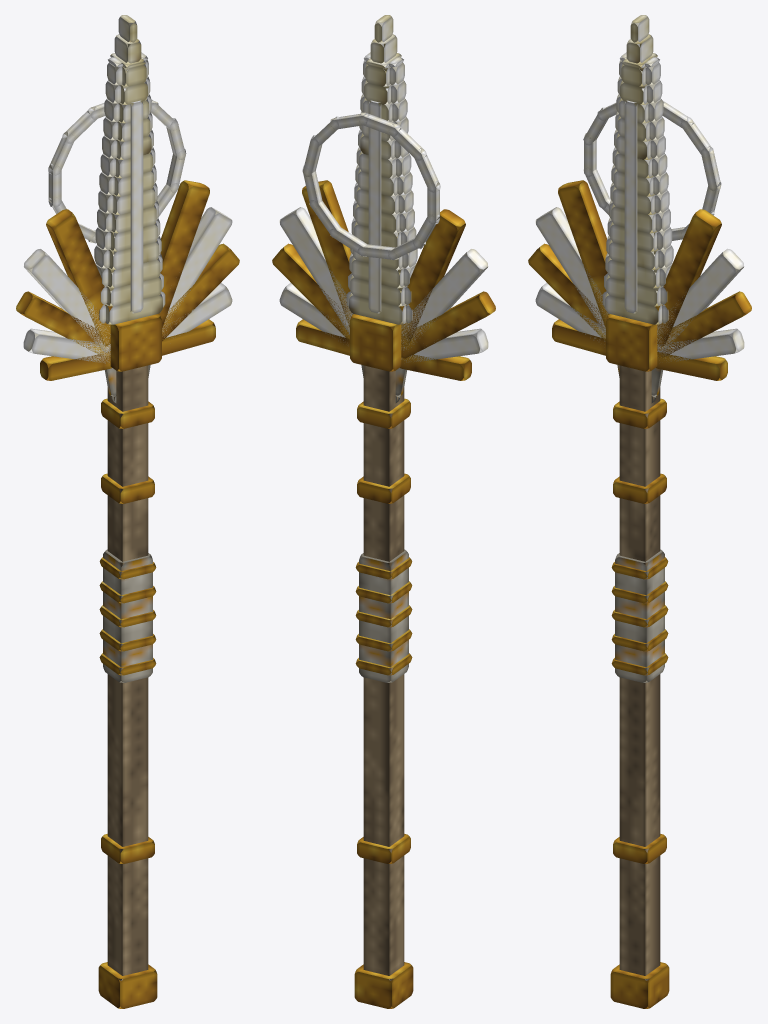
File: heavens_lance.obj
3 views of the same model, side by side, from view 1: azimuth 30°, elevation 25°; view 2: azimuth 150°, elevation 25°; view 3: azimuth 330°, elevation 25° (orthographic).
Parts seen in each view (by area): view 1: lit, fire; view 2: lit, fire; view 3: lit, fire.
Boxes of the visible parts, x1,y1,x2,y2 form: lit: [16, 15, 239, 1008]; fire: [23, 52, 232, 363]; lit: [272, 15, 495, 1008]; fire: [279, 52, 488, 362]; lit: [528, 15, 751, 1008]; fire: [535, 52, 744, 361].
Size of the model in its own units: 0.9534 by 4.07 by 0.1969.
